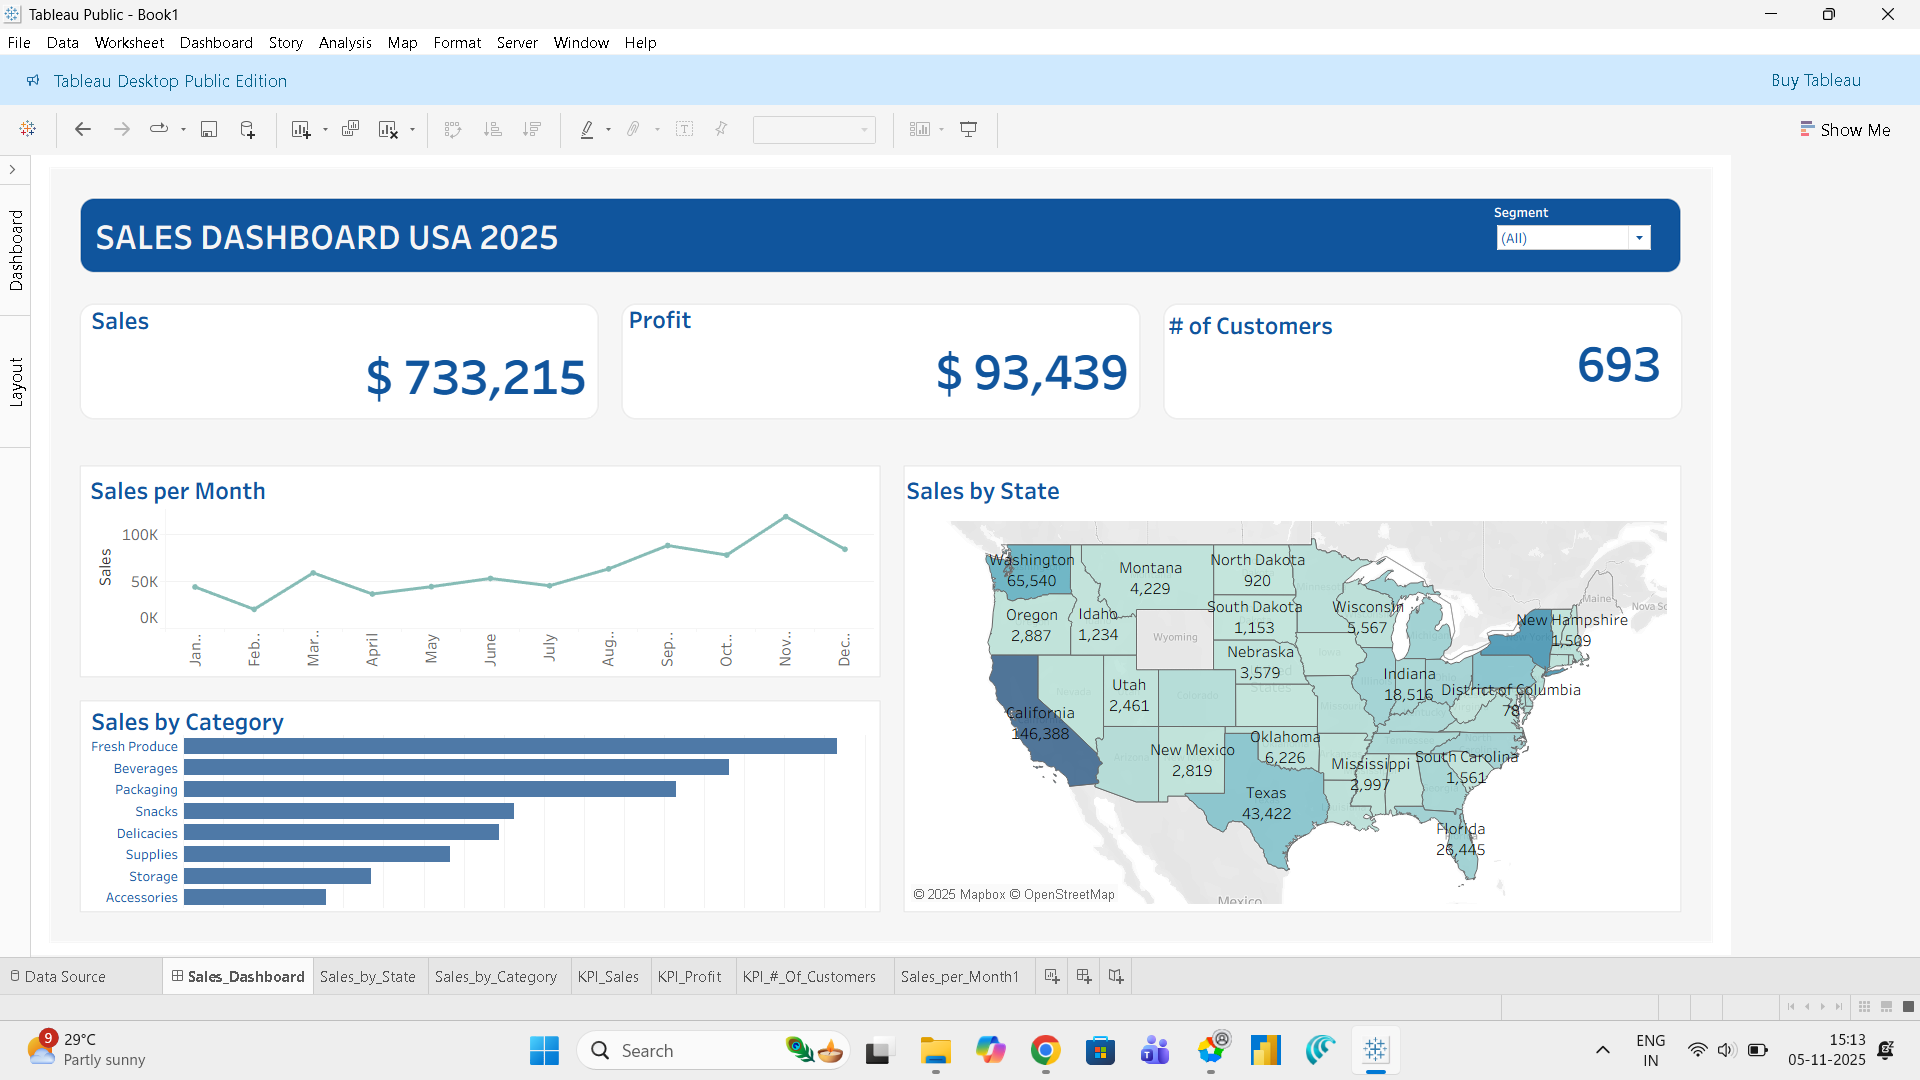

This screenshot's page, from the dashboard's own definition file:
{"tool":"tableau","page":{"name":"Sales_Dashboard","canvas":[1700,800],"ordinal":0},"visuals":[{"type":"image","param":"C:/Users/sasis/OneDrive/Desktop/OneDrive/Documents/My Tableau Repository/Workboo","box":[8,8,1684,784]},{"type":"filter","title":"Sales_by_Category","param":"[federated.1i9fk3903mkewv16w7l1k15neq6j].[none:Segment:nk]","box":[1463,48,160,67]},{"type":"text","box":[61,49,500,63]},{"type":"text","box":[594,148,100,32]},{"type":"text","box":[57,149,100,32]},{"type":"text","box":[1134,154,169,32]},{"type":"worksheet","title":"KPI_#_Of_Customers","mark":"Automatic","box":[1309,158,325,97]},{"type":"worksheet","title":"KPI_Profit","mark":"Automatic","box":[696,175,406,80]},{"type":"worksheet","title":"KPI_Sales","mark":"Automatic","box":[242,177,318,85]},{"type":"text","box":[56,319,183,32]},{"type":"text","box":[872,319,161,32]},{"type":"worksheet","title":"Sales_per_Month1","mark":"Automatic","rows":["Sales"],"cols":["Date"],"box":[56,354,787,159]},{"type":"worksheet","title":"Sales_by_State","mark":"Automatic","box":[877,366,759,383]},{"type":"text","box":[57,550,200,32]},{"type":"worksheet","title":"Sales_by_Category","mark":"Automatic","rows":["Category"],"cols":["Sales"],"box":[52,580,787,173]}]}

Visuals, with their boxes on the page's 1700x800 design canvas (x1, y1, x2, y2). These are canvas units, not pixel positions in the 1920x1080 screenshot, which may show the page scaled, cropped or inside an application window:
image: bbox=[8, 8, 1692, 792]
"Sales_by_Category" filter: bbox=[1463, 48, 1623, 115]
text: bbox=[61, 49, 561, 112]
text: bbox=[594, 148, 694, 180]
text: bbox=[57, 149, 157, 181]
text: bbox=[1134, 154, 1303, 186]
"KPI_#_Of_Customers" worksheet: bbox=[1309, 158, 1634, 255]
"KPI_Profit" worksheet: bbox=[696, 175, 1102, 255]
"KPI_Sales" worksheet: bbox=[242, 177, 560, 262]
text: bbox=[56, 319, 239, 351]
text: bbox=[872, 319, 1033, 351]
"Sales_per_Month1" worksheet: bbox=[56, 354, 843, 513]
"Sales_by_State" worksheet: bbox=[877, 366, 1636, 749]
text: bbox=[57, 550, 257, 582]
"Sales_by_Category" worksheet: bbox=[52, 580, 839, 753]
